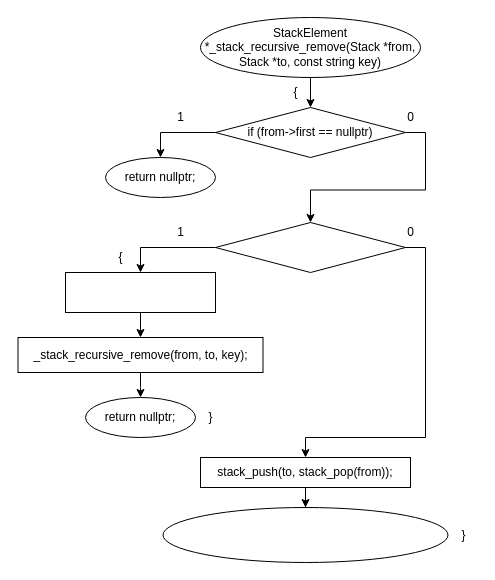
Image size: 495x580. Some labels were removed from this diagram. The centre of each missing label's shape, as x and y in pixels:
"if (from->first->key == key)" belongs at (x=310, y=247).
"return _stack_recursive_remove(from, to, key);" belongs at (x=305, y=534).
"StackElement *element = stack_pop(from);" belongs at (x=140, y=292).
